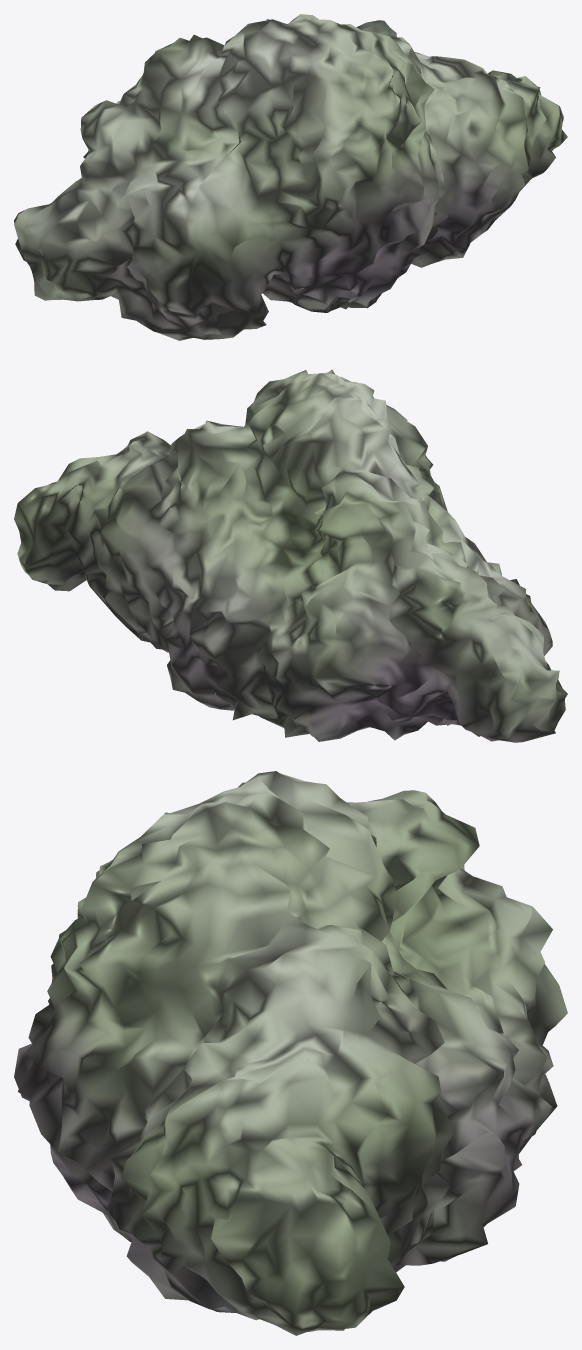
The model's file is PC_Cloud_01.FBX.
3 renders of one model, top to bottom at view 1: azimuth 30°, elevation 25°; view 2: azimuth 150°, elevation 25°; view 3: azimuth 270°, elevation 25°, orthographic. The views are drawn at different scales.
Visible parts, largest first — view 1: Cloud_01; view 2: Cloud_01; view 3: Cloud_01.
Boxes of the visible parts, x1,y1,x2,y2 form: Cloud_01: (14,14,567,340); Cloud_01: (14,369,567,742); Cloud_01: (14,771,567,1335).
Bounding box in the file's own units: 9.35 × 5.01 × 5.42.
